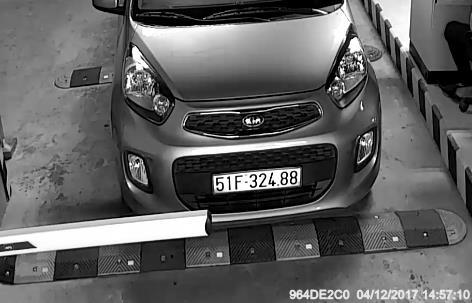License-plate: (199, 165, 305, 201)
